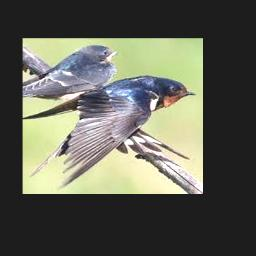Swallow: (23, 75, 196, 189), (23, 44, 116, 96)
